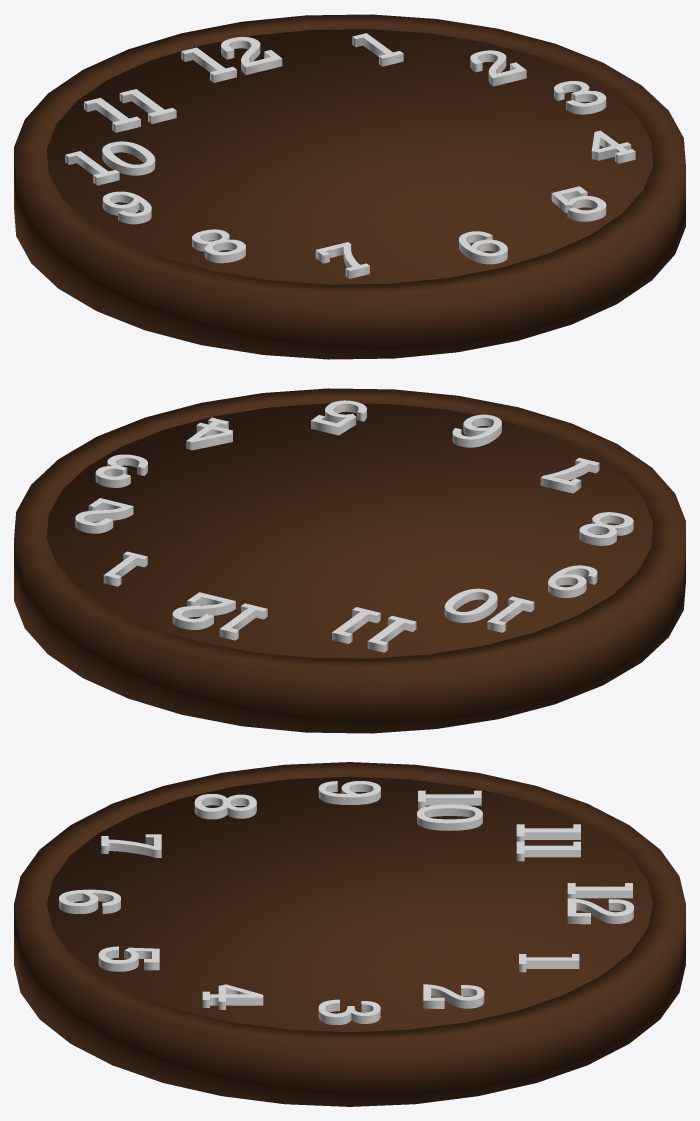
The model's file is clock(1).fbx.
3 views of the same model, one above another, from view 1: azimuth 30°, elevation 25°; view 2: azimuth 150°, elevation 25°; view 3: azimuth 270°, elevation 25° (orthographic).
Visible parts, largest first — view 1: Cylinder, Text.011, Text.009, Text.010, Text.007, Text.004, Text.005, Text.008, Text.002, Text.001, Text.003, Text.006 (+1 smaller); view 2: Cylinder, Text.011, Text.009, Text.010, Text.001, Text.007, Text.004, Text.005, Text.008, Text.002, Text.006, Text.003 (+1 smaller); view 3: Cylinder, Text.011, Text.009, Text.010, Text.007, Text.005, Text.008, Text.004, Text.001, Text.002, Text.003, Text.006 (+1 smaller).
Boxes of the visible parts, box(x1,y1,x2,y2) form: Cylinder: box(14, 14, 685, 359); Text.011: box(181, 37, 282, 82); Text.009: box(65, 141, 155, 185); Text.010: box(84, 89, 176, 132); Text.007: box(192, 229, 245, 263); Text.004: box(551, 186, 606, 221); Text.005: box(459, 231, 507, 264); Text.008: box(102, 191, 151, 224); Text.002: box(554, 81, 606, 114); Text.001: box(470, 50, 526, 86); Text.003: box(591, 130, 635, 163); Text.006: box(315, 242, 369, 278); Cylinder: box(14, 388, 685, 733); Text.011: box(172, 592, 267, 640); Text.009: box(444, 588, 534, 632); Text.010: box(332, 607, 416, 652); Text.001: box(75, 498, 133, 533); Text.007: box(579, 512, 633, 545); Text.004: box(311, 400, 366, 435); Text.005: box(452, 414, 501, 447); Text.008: box(548, 565, 597, 597); Text.002: box(95, 454, 147, 487); Text.006: box(540, 457, 599, 493); Text.003: box(186, 417, 232, 450); Cylinder: box(14, 762, 685, 1106); Text.011: box(567, 883, 633, 924); Text.009: box(417, 790, 482, 830); Text.010: box(516, 824, 580, 861); Text.007: box(194, 794, 256, 819); Text.005: box(59, 889, 120, 913); Text.008: box(318, 781, 380, 804); Text.004: box(98, 946, 159, 971); Text.001: box(423, 984, 484, 1008); Text.002: box(318, 999, 380, 1024); Text.003: box(202, 984, 263, 1009); Text.006: box(101, 834, 161, 857).
Bounding box in the file's own units: 100 × 11.31 × 100.
